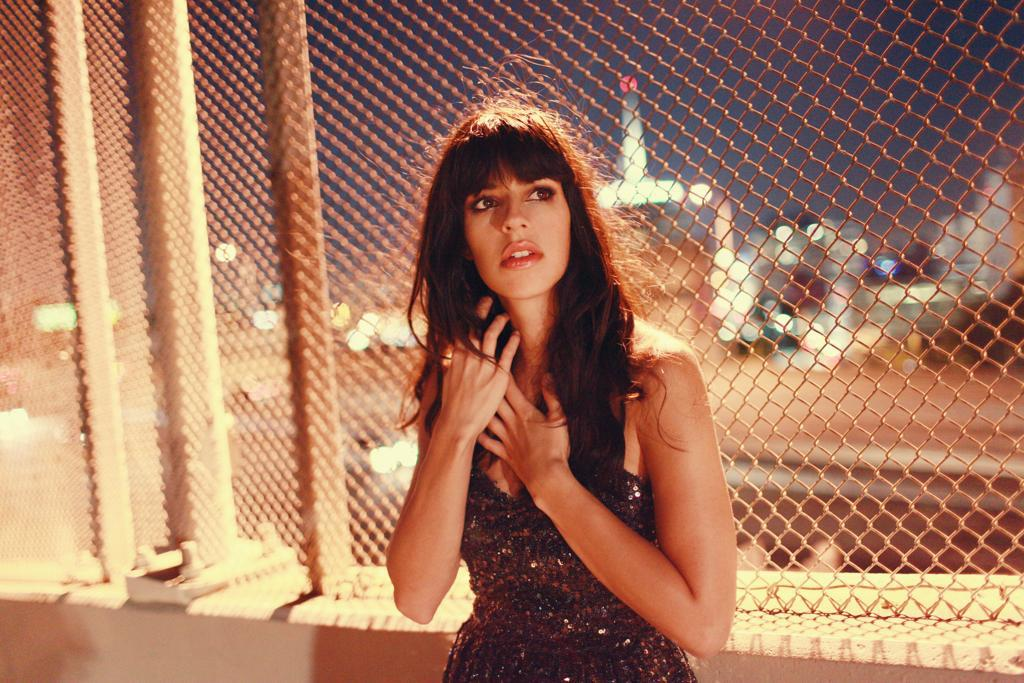face: (463, 145, 571, 301)
